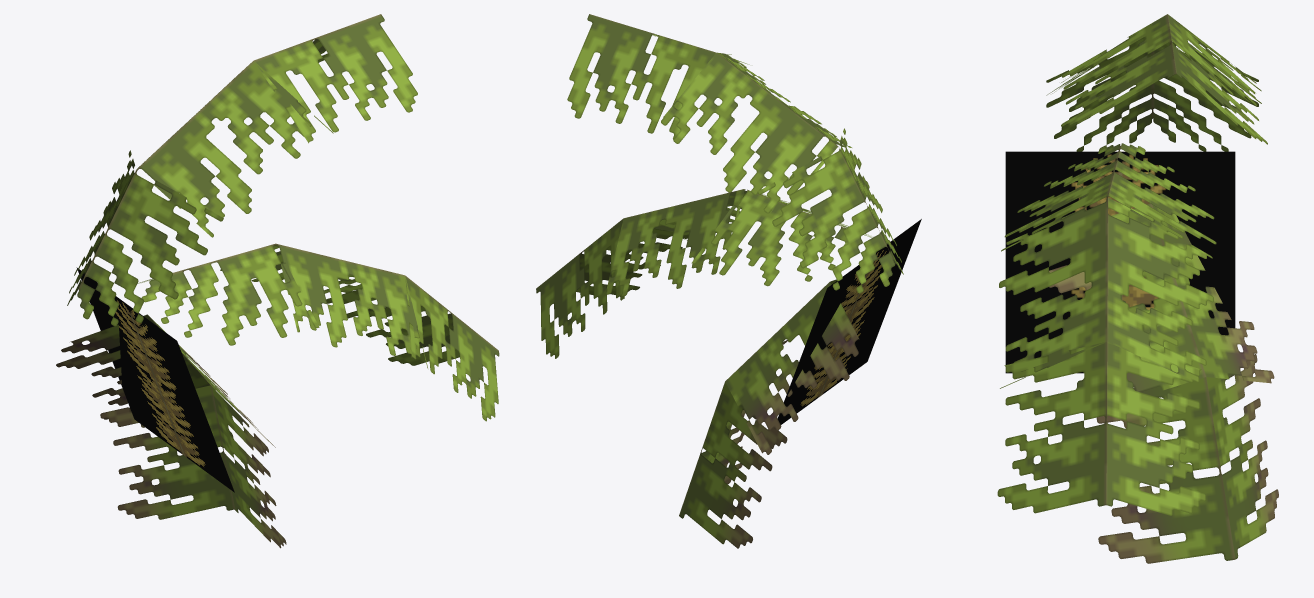
The model's file is palm_straight_1.obj.
The picture shows the model from 3 angles, left to right: view 1: azimuth 30°, elevation 25°; view 2: azimuth 150°, elevation 25°; view 3: azimuth 270°, elevation 25°; orthographic projection. The views are drawn at different scales.
Parts seen in each view (by area): view 1: cube.232; view 2: cube.232; view 3: cube.232.
Boxes of the visible parts, box(x1,y1,x2,y2) form: cube.232: box(56, 14, 499, 548); cube.232: box(536, 14, 921, 548); cube.232: box(997, 14, 1278, 563).
Size of the model in its own units: 3.59 by 4.1 by 2.15.
